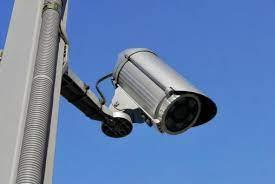tutu: (108, 43, 222, 139)
